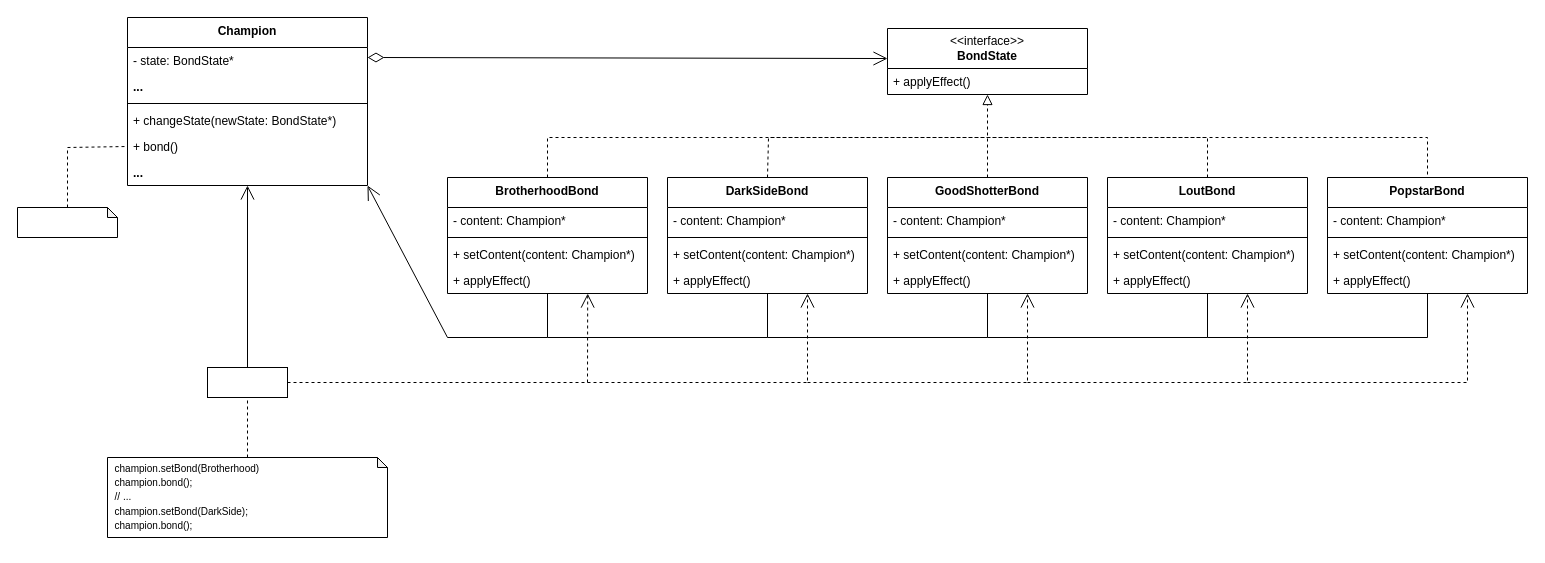
The diagram is 1545 pixels wide and 563 high, and some of its shapes have lost their labels. The centre of each missing label's shape, as x and y in pixels:
"Client" belongs at pixel 247 382.
"state.applyEffect()" belongs at pixel 67 222.
